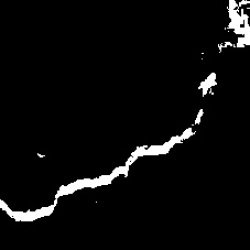crack: (2, 71, 217, 223), (217, 2, 249, 51)
pinhole: (36, 153, 45, 157)
